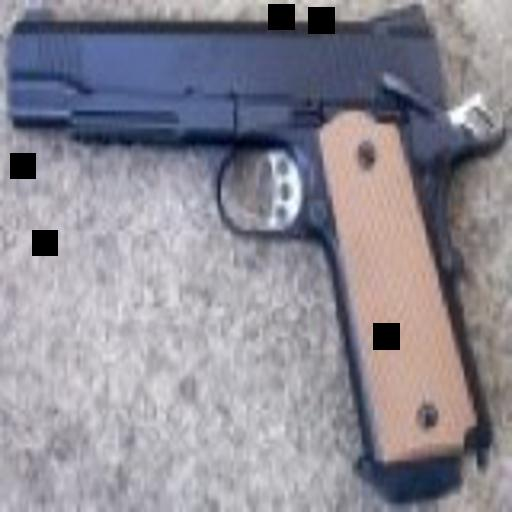Handgun: (8, 16, 491, 485)
